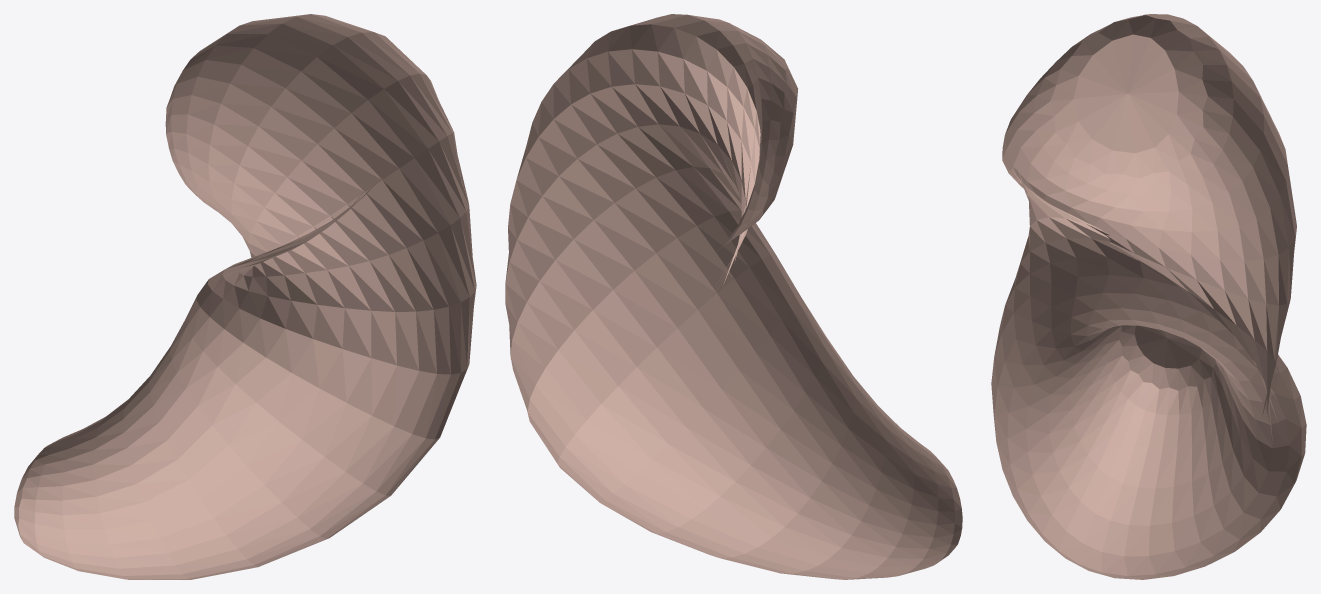
The model's file is stomach.glb.
3 renders of one model, left to right at view 1: azimuth 30°, elevation 25°; view 2: azimuth 150°, elevation 25°; view 3: azimuth 270°, elevation 25°, orthographic. The views are drawn at different scales.
Visible parts, largest first — view 1: stomach; view 2: stomach; view 3: stomach.
Boxes of the visible parts, x1,y1,x2,y2 form: stomach: (14, 14, 476, 579); stomach: (505, 14, 962, 579); stomach: (991, 14, 1306, 579).
Size of the model in its own units: 0.1412 by 0.1592 by 0.0824.
